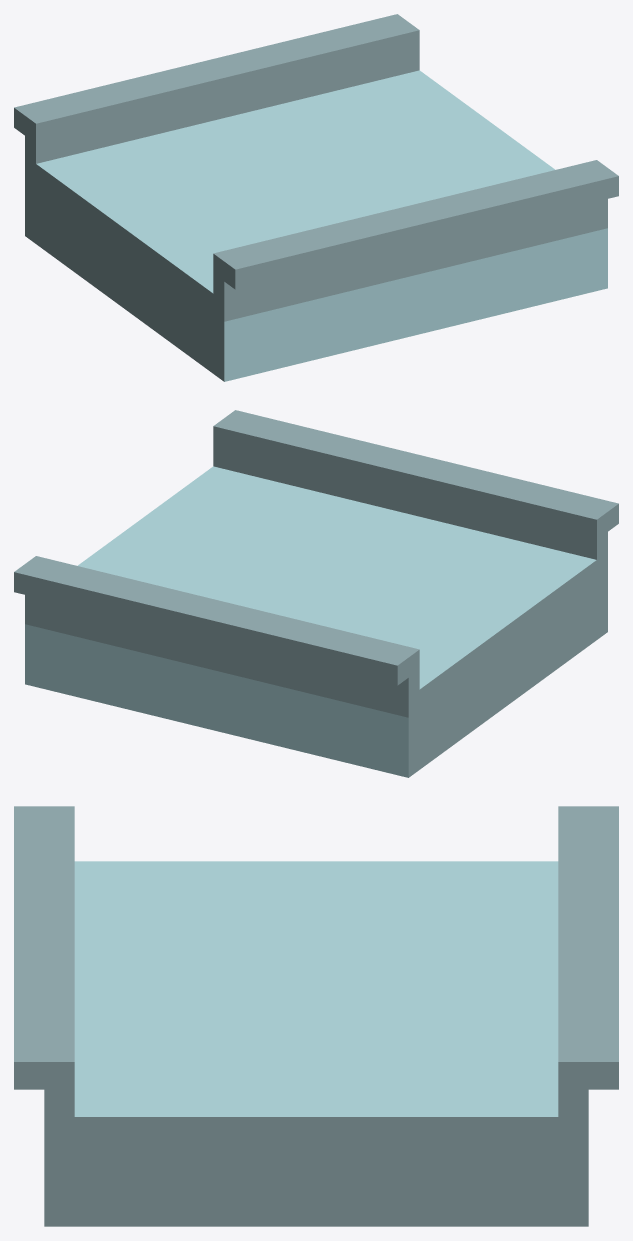
The model's file is bridge_center_stone.glb.
3 renders of one model, top to bottom at view 1: azimuth 30°, elevation 25°; view 2: azimuth 150°, elevation 25°; view 3: azimuth 270°, elevation 25°, orthographic. The views are drawn at different scales.
Parts seen in each view (by area): view 1: bridge_center_stone; view 2: bridge_center_stone; view 3: bridge_center_stone.
Part boxes in pixels (<box>): bridge_center_stone: <box>14,14,618,381</box>; bridge_center_stone: <box>14,410,618,777</box>; bridge_center_stone: <box>14,806,618,1226</box>.
Size of the model in its own units: 1 by 0.3 by 1.
